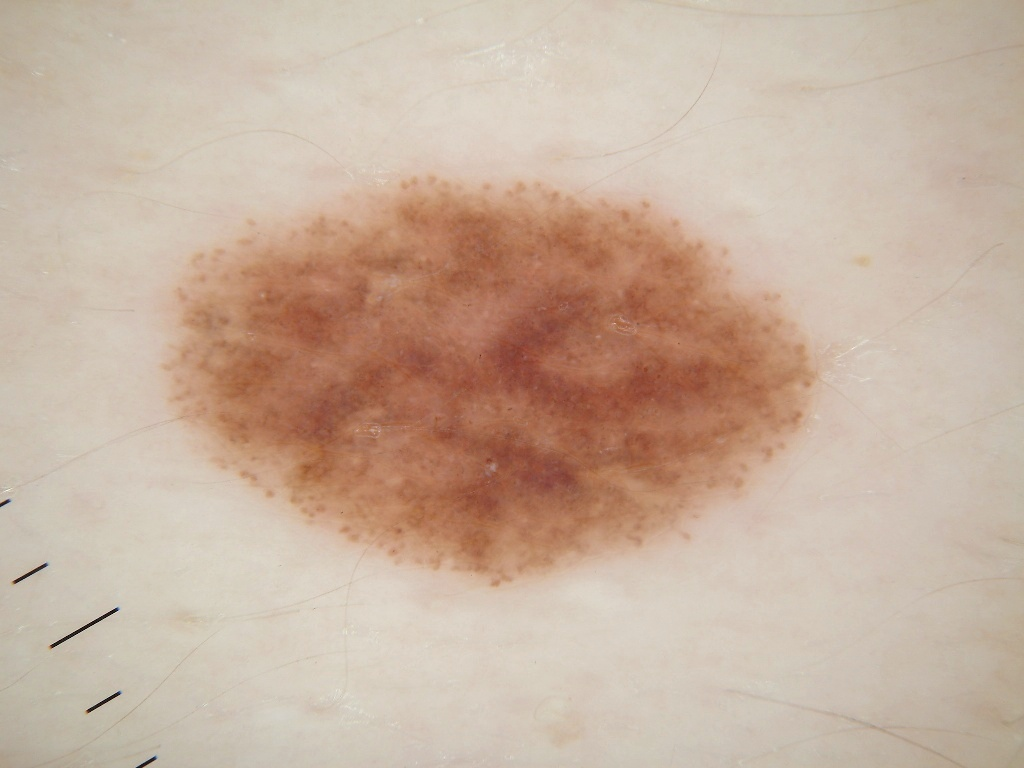Detected Lesion: (145, 158, 827, 592)
